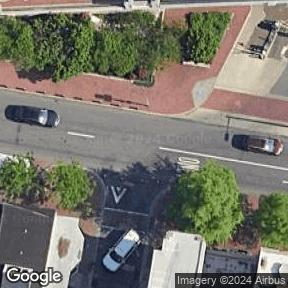vegetation: (0, 11, 230, 81), (161, 154, 257, 251), (39, 153, 100, 216), (0, 152, 48, 203), (256, 195, 288, 248)
